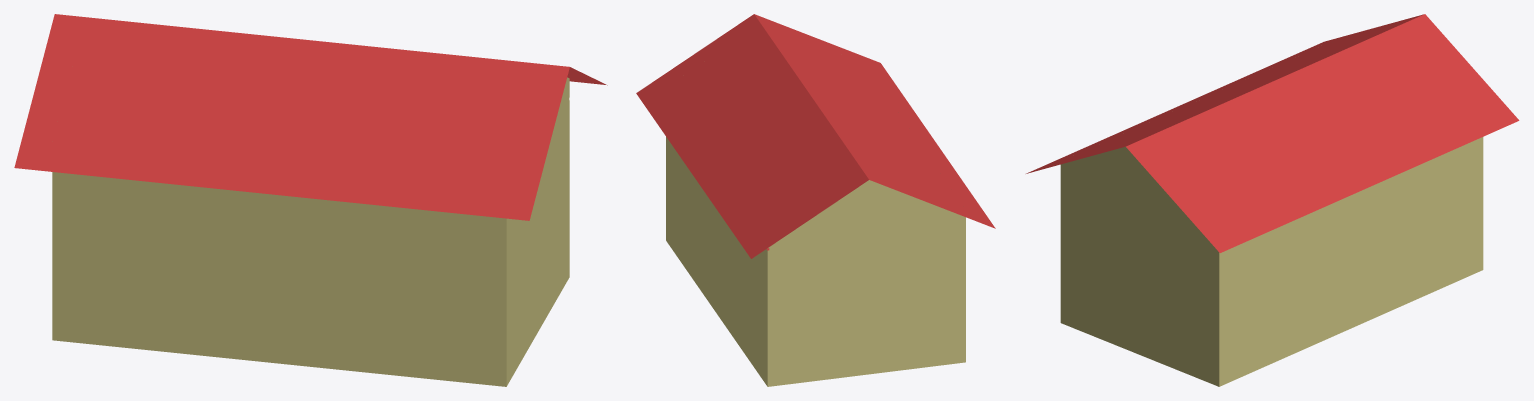
3 views of the same model, side by side, from view 1: azimuth 30°, elevation 25°; view 2: azimuth 150°, elevation 25°; view 3: azimuth 270°, elevation 25° (orthographic). The views are drawn at different scales.
Bounding box in the file's own units: 19.51 × 19.3 × 9.36.
